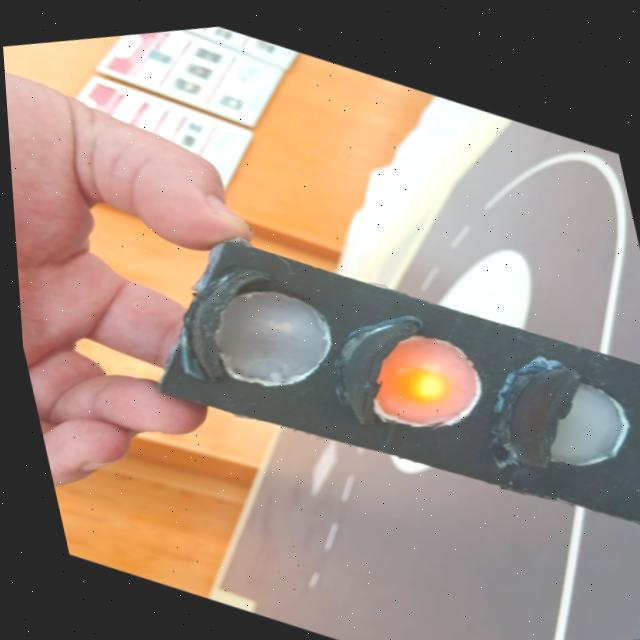trafic lights: (158, 241, 640, 525)
yellow: (374, 337, 481, 427)
